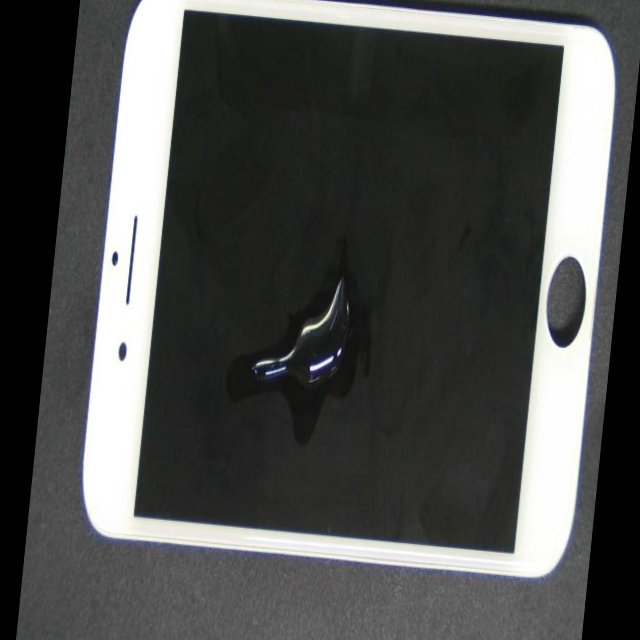oil: (146, 118, 457, 636)
